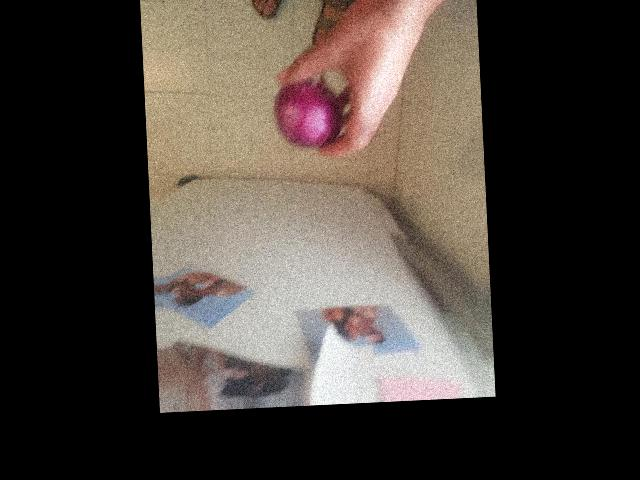onion: (268, 66, 351, 156)
